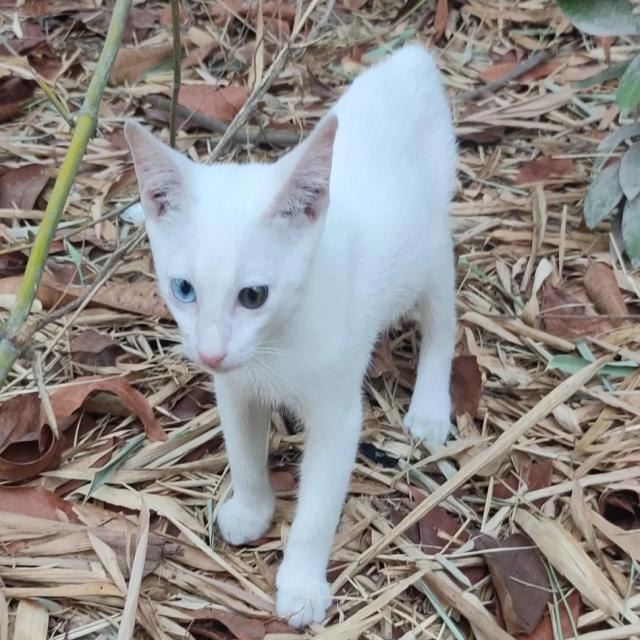Khao Manee: (119, 34, 468, 634)
